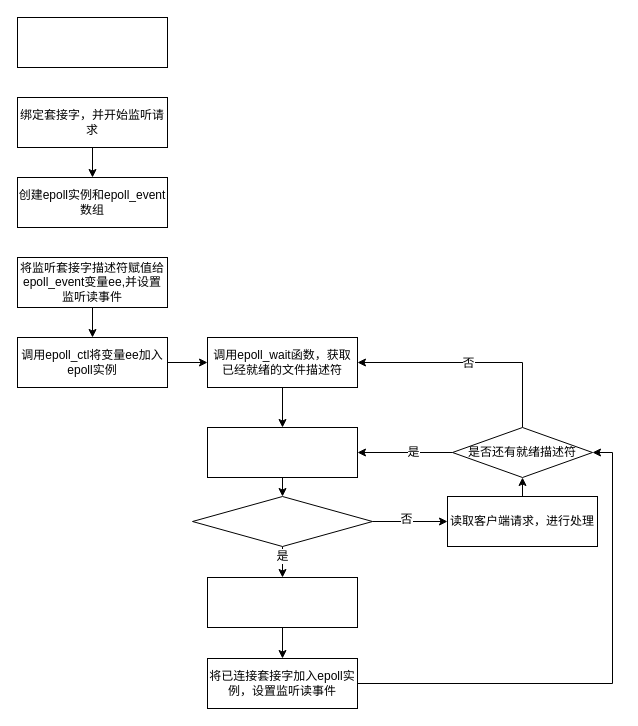
This 638x726 diagram has some shape labels left out. Each missing label, with the centre of its shape:
"创建套接字" goes at point (92, 42).
"接受客户端连接，创建已连接套接字" goes at point (282, 602).
"是否为监听套接字" goes at point (282, 521).
"读取一个就绪描述符" goes at point (282, 452).
